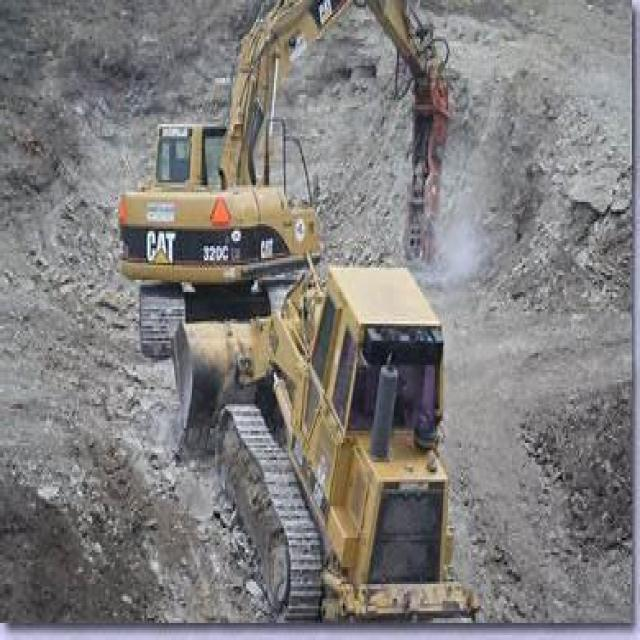Bulldozer: (164, 248, 476, 621)
